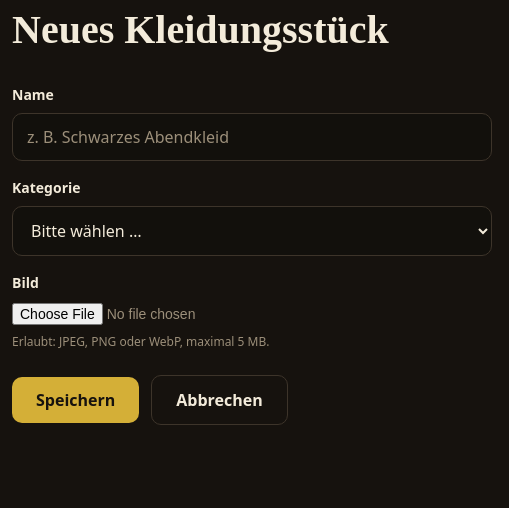
Test: ItemFormPage (Anlegen) › zeigt eine Meldung, wenn der Name fehlt
Click the button "Speichern". click: [76, 400]
box: [12,377,139,423]
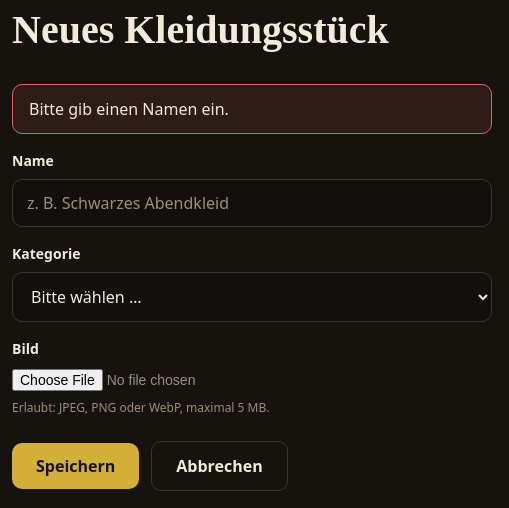
expect the message reads "Bitte gib einen Namen ein.": met, box [29,98,229,120]
